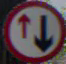Two way: (8, 5, 59, 56)
